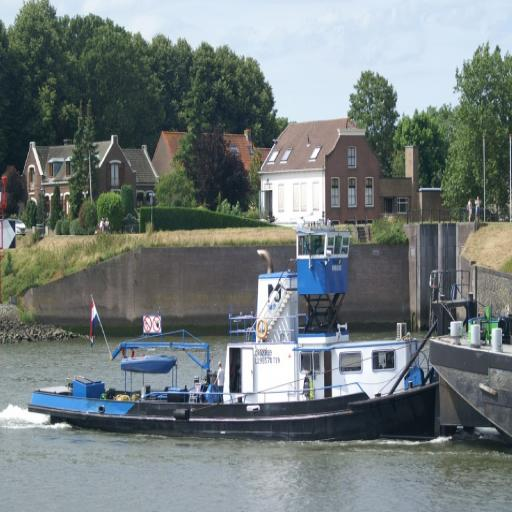tugboat: (25, 210, 483, 457)
